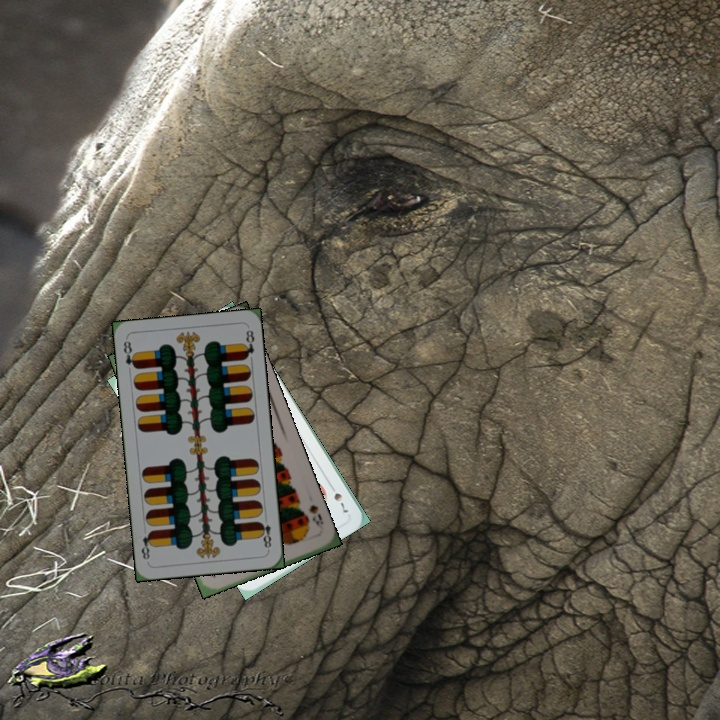E8: (119, 337, 140, 371), (255, 518, 274, 553)
S7: (325, 480, 351, 515)
S8: (304, 500, 326, 533)
